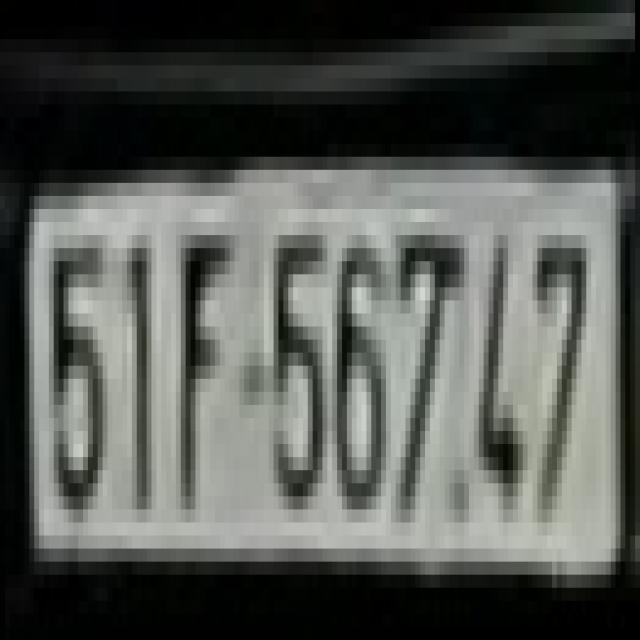1: (122, 235, 156, 509)
4: (479, 222, 523, 509)
5: (269, 222, 327, 509), (49, 235, 107, 509)
6: (332, 222, 386, 509)
7: (396, 222, 464, 522), (533, 235, 591, 523)
F: (176, 222, 234, 522)
